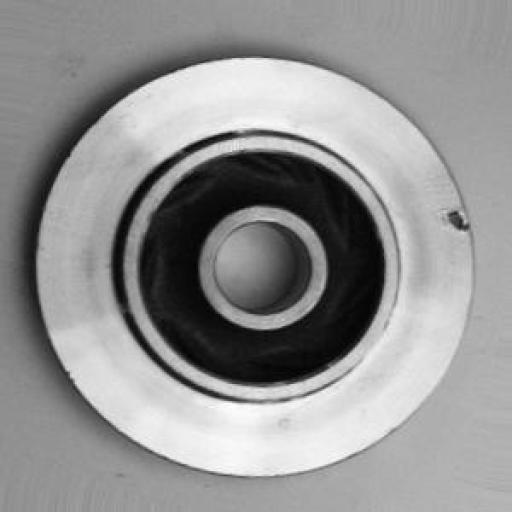defect: (407, 163, 493, 281)
